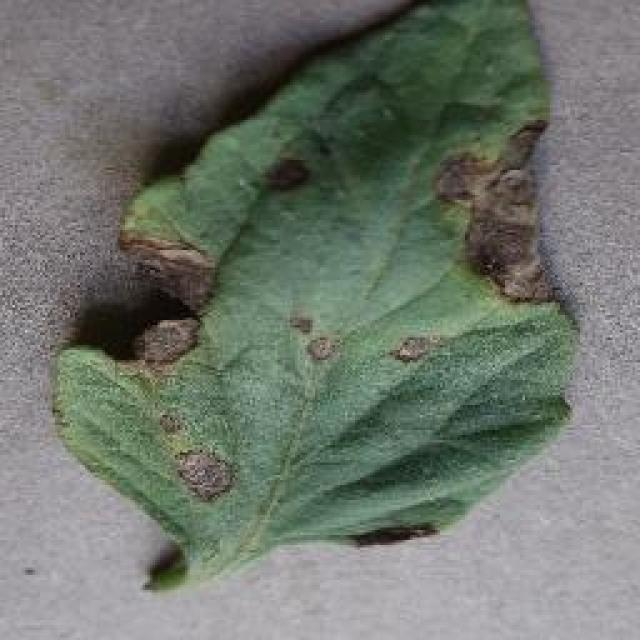Tomato Early blight leaf: (50, 0, 580, 545)
